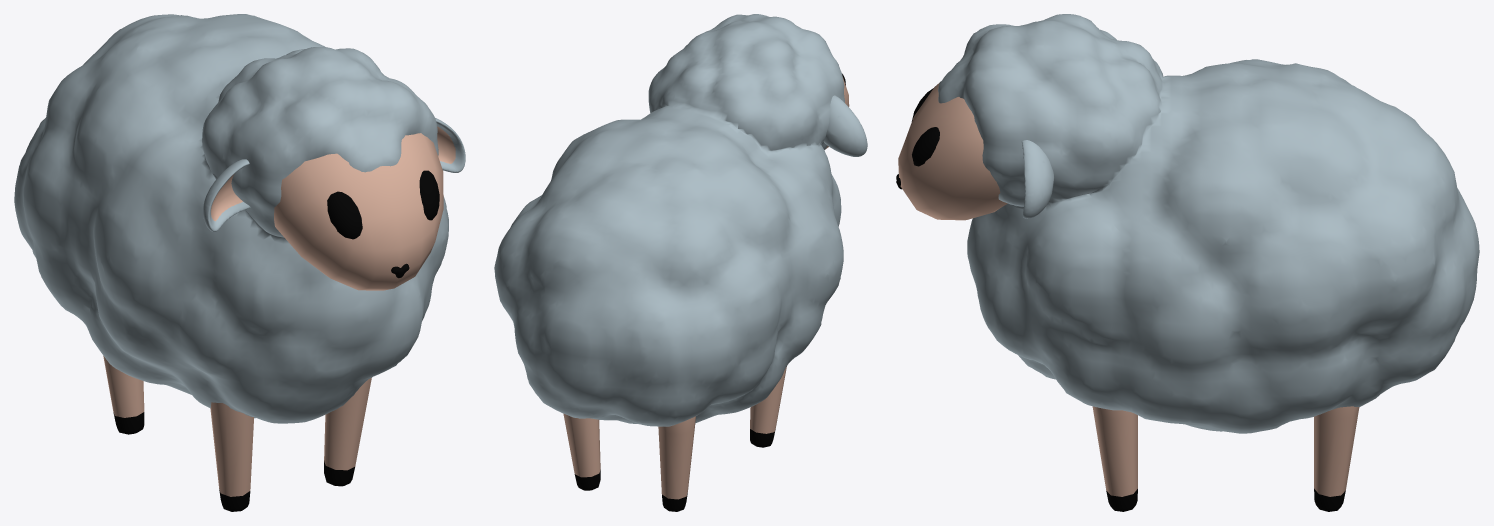
Rendered from sheep.fbx.
The picture shows the model from 3 angles, left to right: view 1: azimuth 30°, elevation 25°; view 2: azimuth 150°, elevation 25°; view 3: azimuth 270°, elevation 25°; orthographic projection. The views are drawn at different scales.
Parts seen in each view (by area): view 1: Fur, Head, Legs, Ear, Eyes; view 2: Fur, Legs, Ear; view 3: Fur, Head, Legs, Ear, Eyes.
Part boxes in pixels (x1,y1,x2,y2): Fur: (14, 14, 448, 423); Head: (274, 133, 443, 290); Legs: (103, 356, 371, 511); Ear: (203, 118, 465, 231); Eyes: (327, 170, 439, 239); Fur: (494, 14, 844, 426); Legs: (563, 366, 786, 511); Ear: (823, 95, 867, 156); Fur: (938, 14, 1479, 433); Head: (898, 83, 1007, 220); Legs: (1092, 406, 1359, 511); Ear: (1021, 140, 1054, 218); Eyes: (911, 88, 939, 166).
Size of the model in its own units: 433 by 606 by 700.
